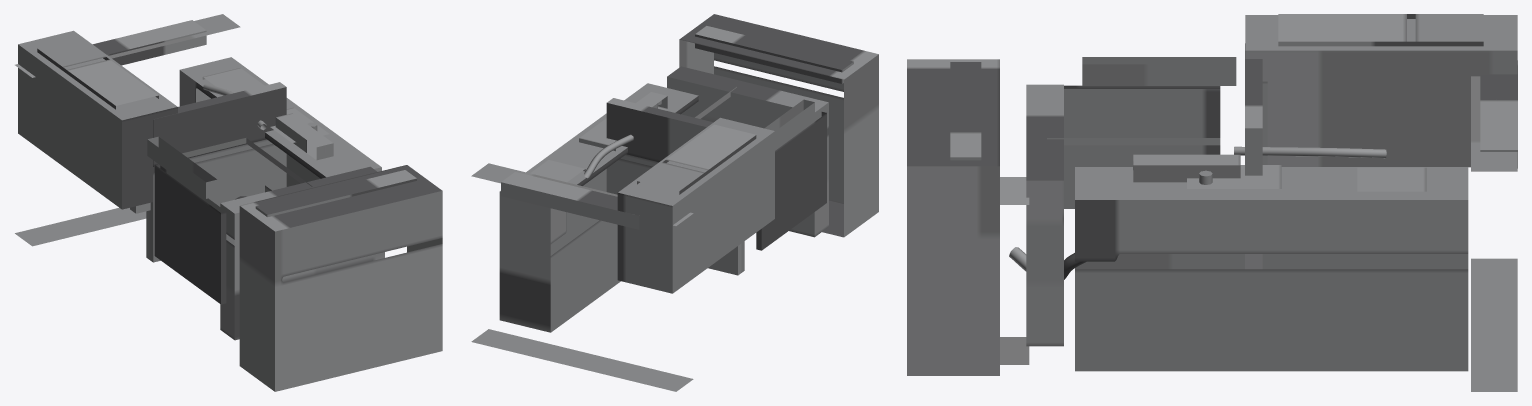
3 views of the same model, side by side, from view 1: azimuth 30°, elevation 25°; view 2: azimuth 150°, elevation 25°; view 3: azimuth 270°, elevation 25° (orthographic). The views are drawn at different scales.
Bounding box in the file's own units: 0.92 × 0.809 × 1.78.
